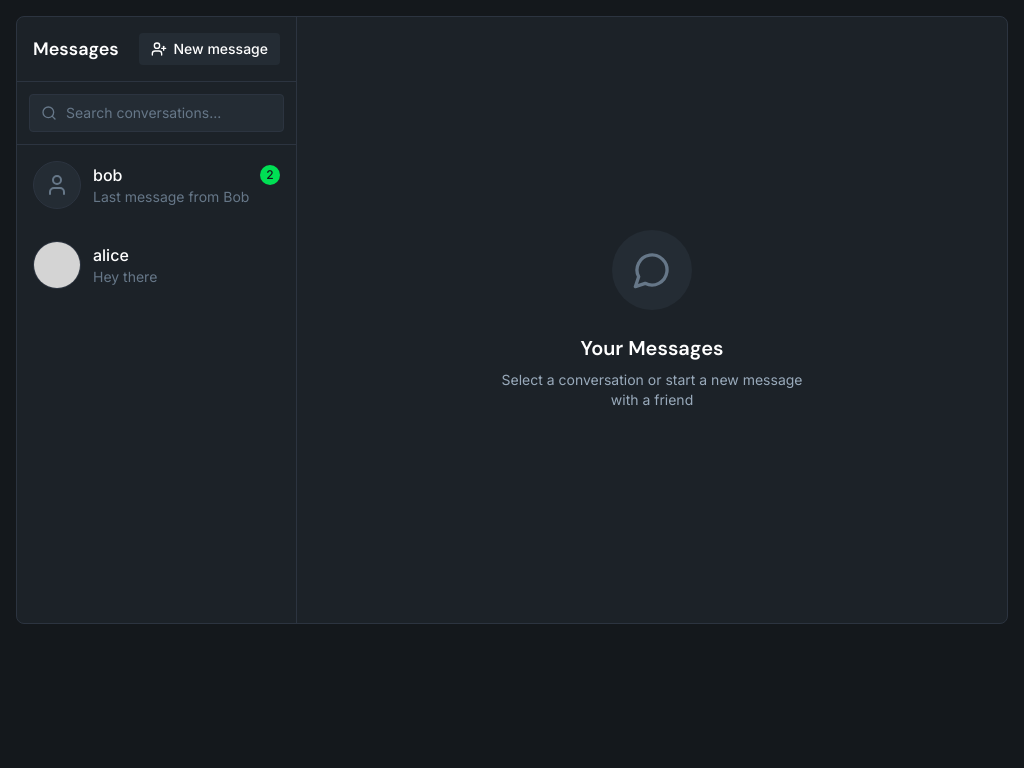
Test case: DiscussionPage › désactive l’input si l’envoi est pending
Click the button "bob 2 Last message from Bob" at (156, 185), box x1=17 y1=145 x2=296 y2=225
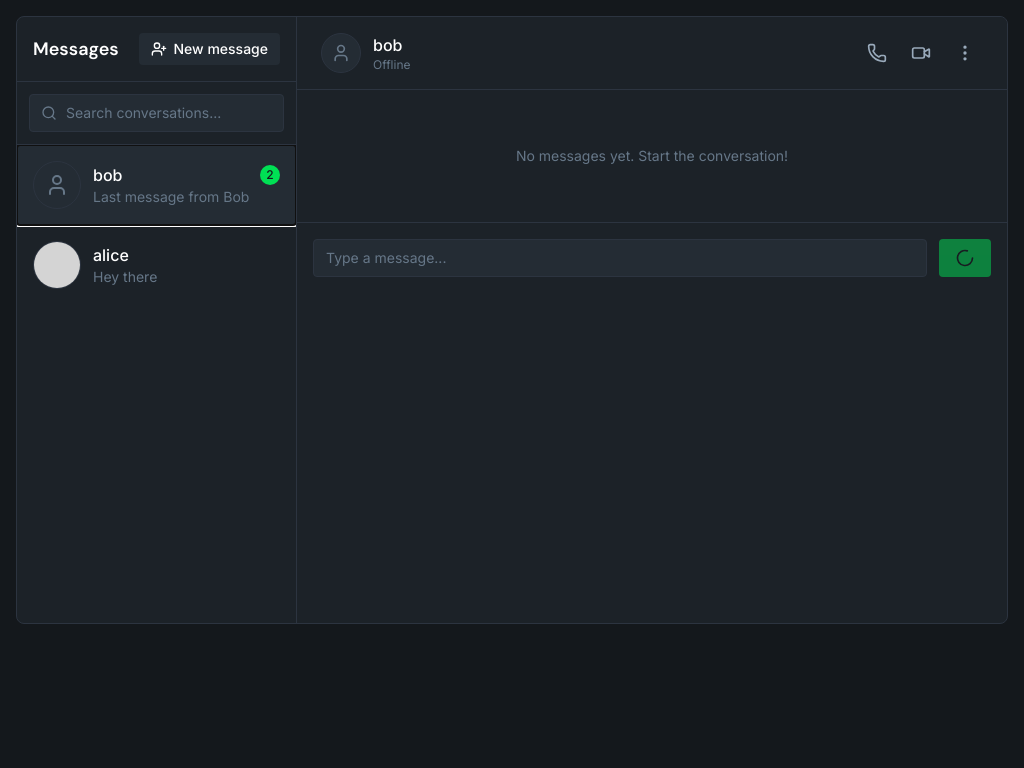
Expected: the field with placeholder "Type a message..." is disabled, x1=313 y1=239 x2=927 y2=277
